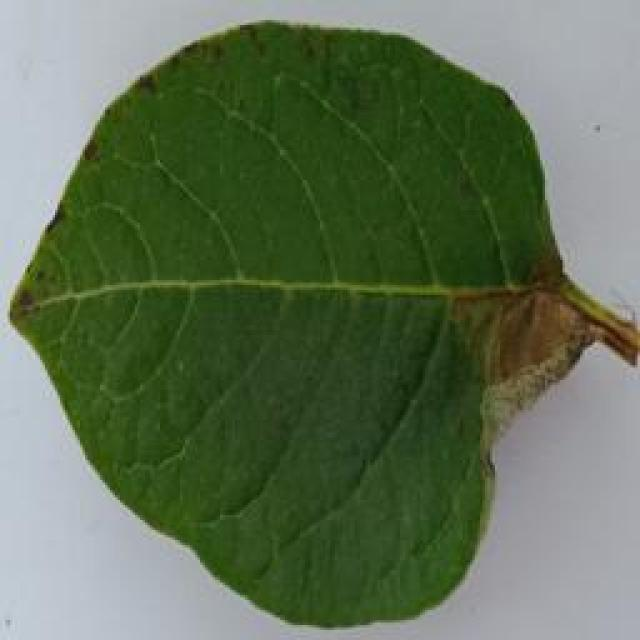Potato_Late_Blight: (11, 21, 638, 621)
